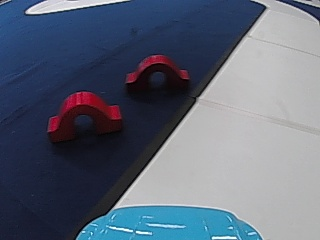bridge: (44, 87, 125, 142), (123, 49, 191, 94)
